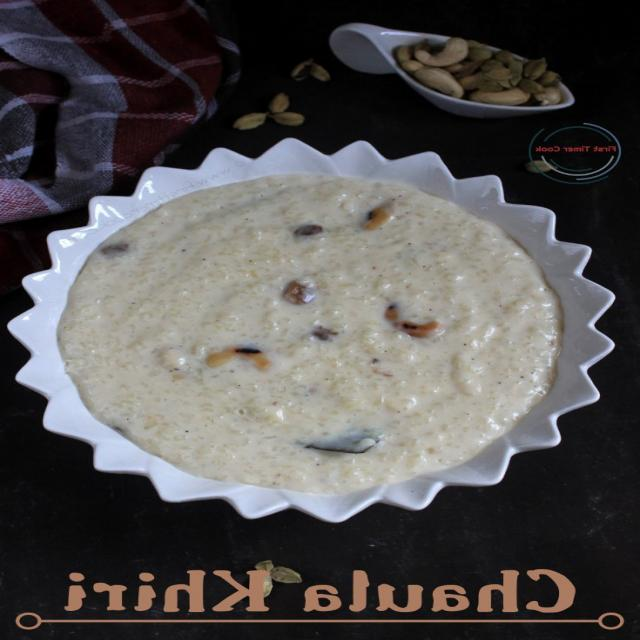Kheer: (63, 185, 552, 480)
